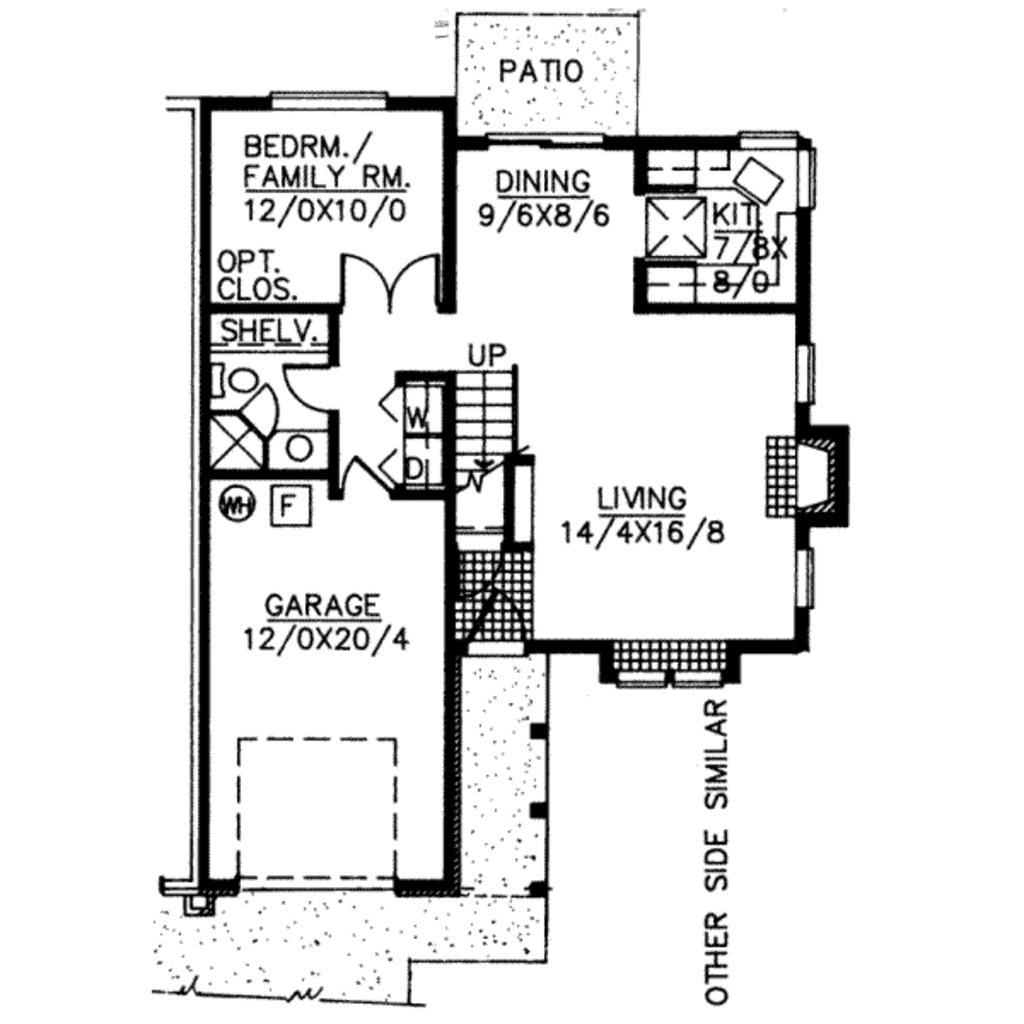door: (338, 247, 438, 319), (279, 362, 340, 417), (237, 376, 281, 441), (341, 452, 391, 501)
large_sink: (205, 360, 264, 405)
stairs: (454, 371, 525, 500)
window: (272, 82, 400, 119), (614, 660, 724, 693), (779, 338, 822, 408), (792, 141, 832, 212), (738, 132, 805, 152)
